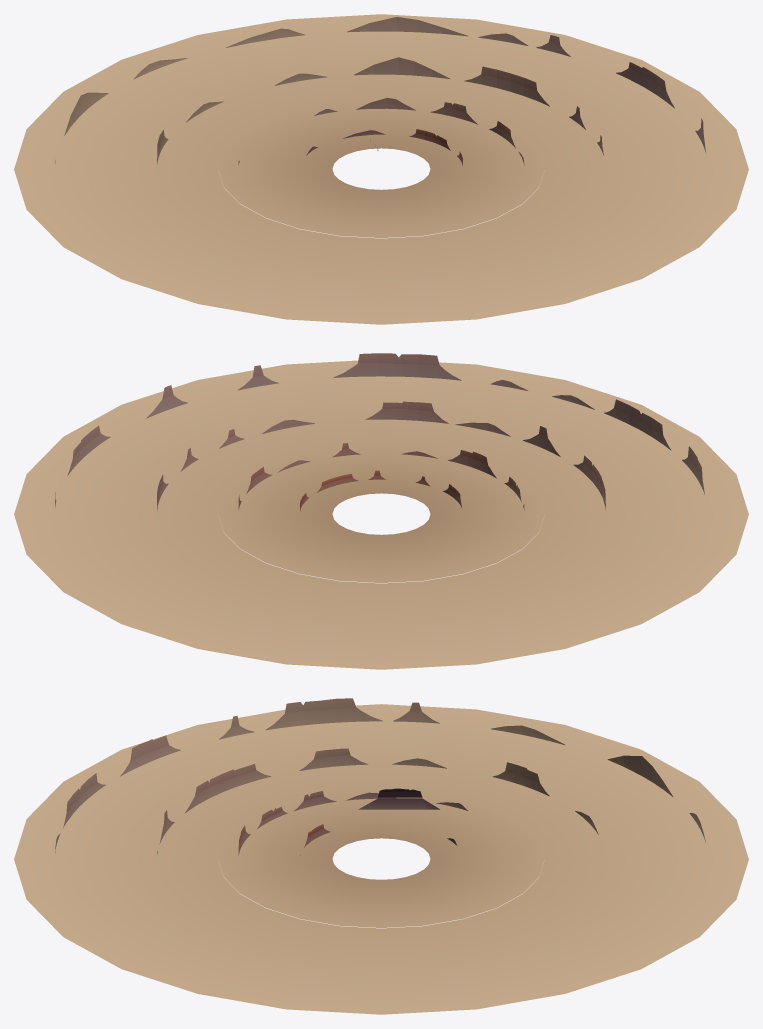
File: env_backdrop_day.glb
3 views of the same model, one above another, from view 1: azimuth 30°, elevation 25°; view 2: azimuth 150°, elevation 25°; view 3: azimuth 270°, elevation 25° (orthographic).
Visible parts, largest first — view 1: backdrop_day; view 2: backdrop_day; view 3: backdrop_day.
Part boxes in pixels (box(x1,y1,x2,y2)): backdrop_day: box(14, 14, 748, 324); backdrop_day: box(14, 353, 748, 669); backdrop_day: box(14, 698, 748, 1014).
Size of the model in its own units: 1800 by 66.19 by 1800.
